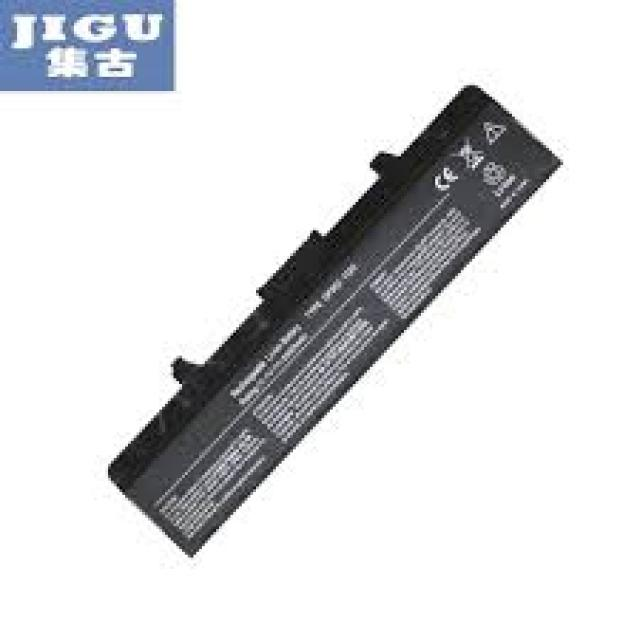non-organic waste: (106, 86, 566, 558)
